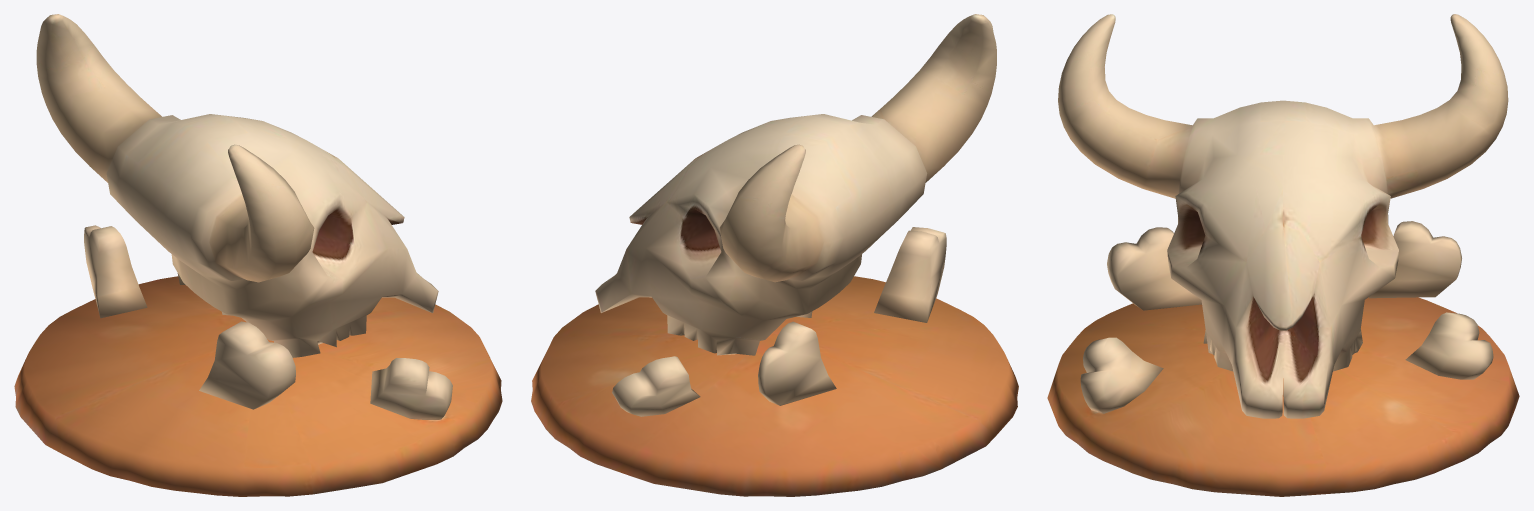
The model's file is skull.glb.
The picture shows the model from 3 angles, left to right: view 1: azimuth 30°, elevation 25°; view 2: azimuth 150°, elevation 25°; view 3: azimuth 270°, elevation 25°; orthographic projection. The views are drawn at different scales.
Visible parts, largest first — view 1: tripo_node_e79fe375-2616-4463-b7ff-e14717b78863; view 2: tripo_node_e79fe375-2616-4463-b7ff-e14717b78863; view 3: tripo_node_e79fe375-2616-4463-b7ff-e14717b78863.
Part boxes in pixels (<box>): tripo_node_e79fe375-2616-4463-b7ff-e14717b78863: <box>14,14,502,496</box>; tripo_node_e79fe375-2616-4463-b7ff-e14717b78863: <box>531,14,1018,496</box>; tripo_node_e79fe375-2616-4463-b7ff-e14717b78863: <box>1047,14,1519,496</box>.
Size of the model in its own units: 1.6 by 1.23 by 1.6.
Materials: 1 (1 with a texture image).
